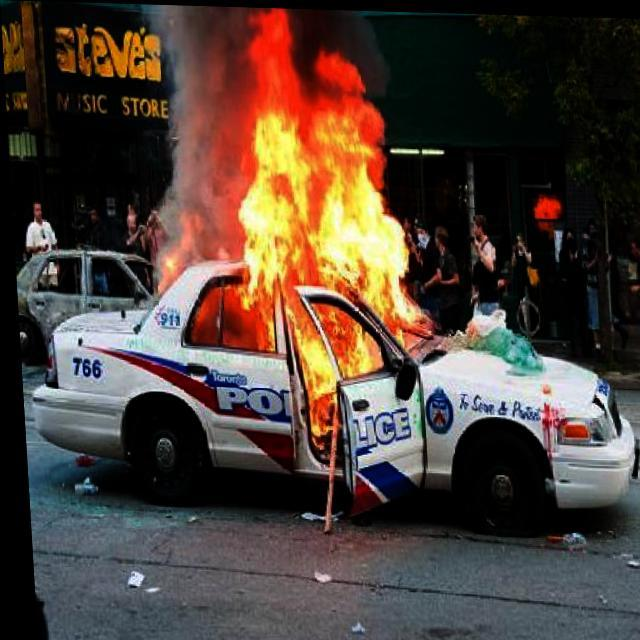Fire: (217, 5, 428, 459)
Smoke: (133, 3, 396, 297)
